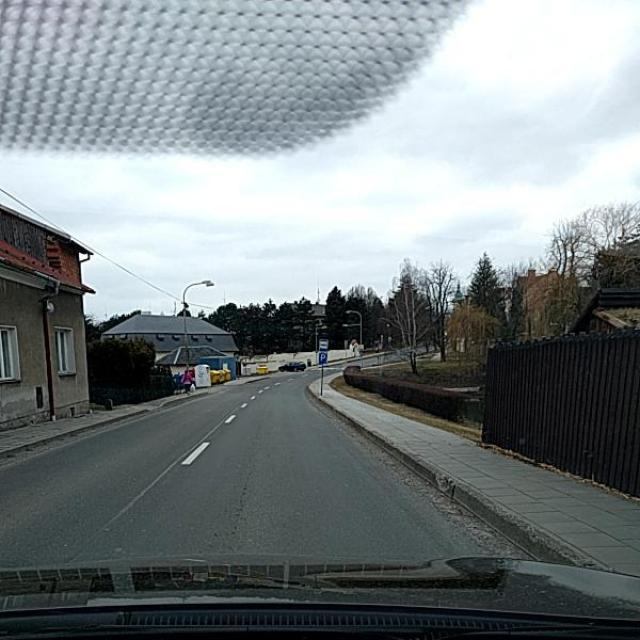Crack: (214, 431, 288, 563)
